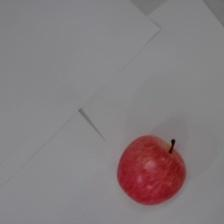red: (116, 135, 187, 206)
